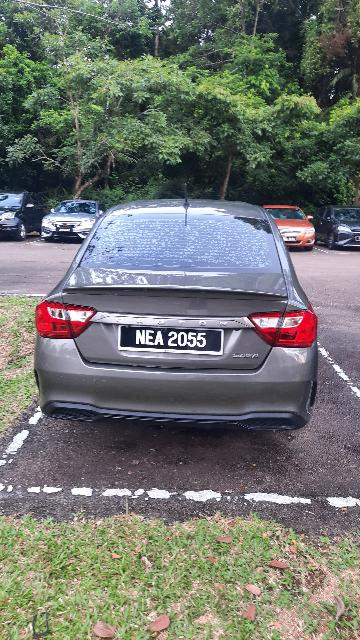License_Plate: (120, 322, 225, 357)
car: (29, 188, 318, 434), (258, 200, 318, 255), (40, 193, 103, 244), (1, 191, 51, 246), (323, 203, 360, 253)
